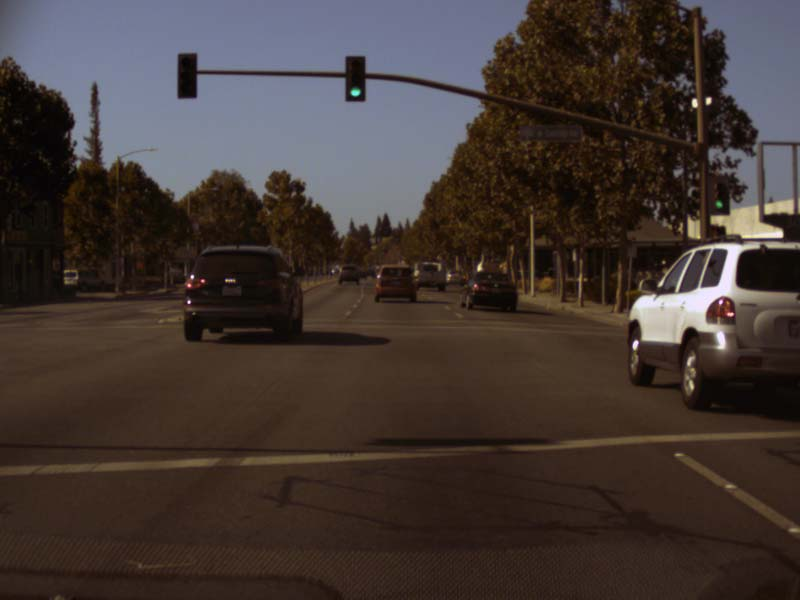Green: (344, 56, 365, 101), (707, 175, 729, 214)
